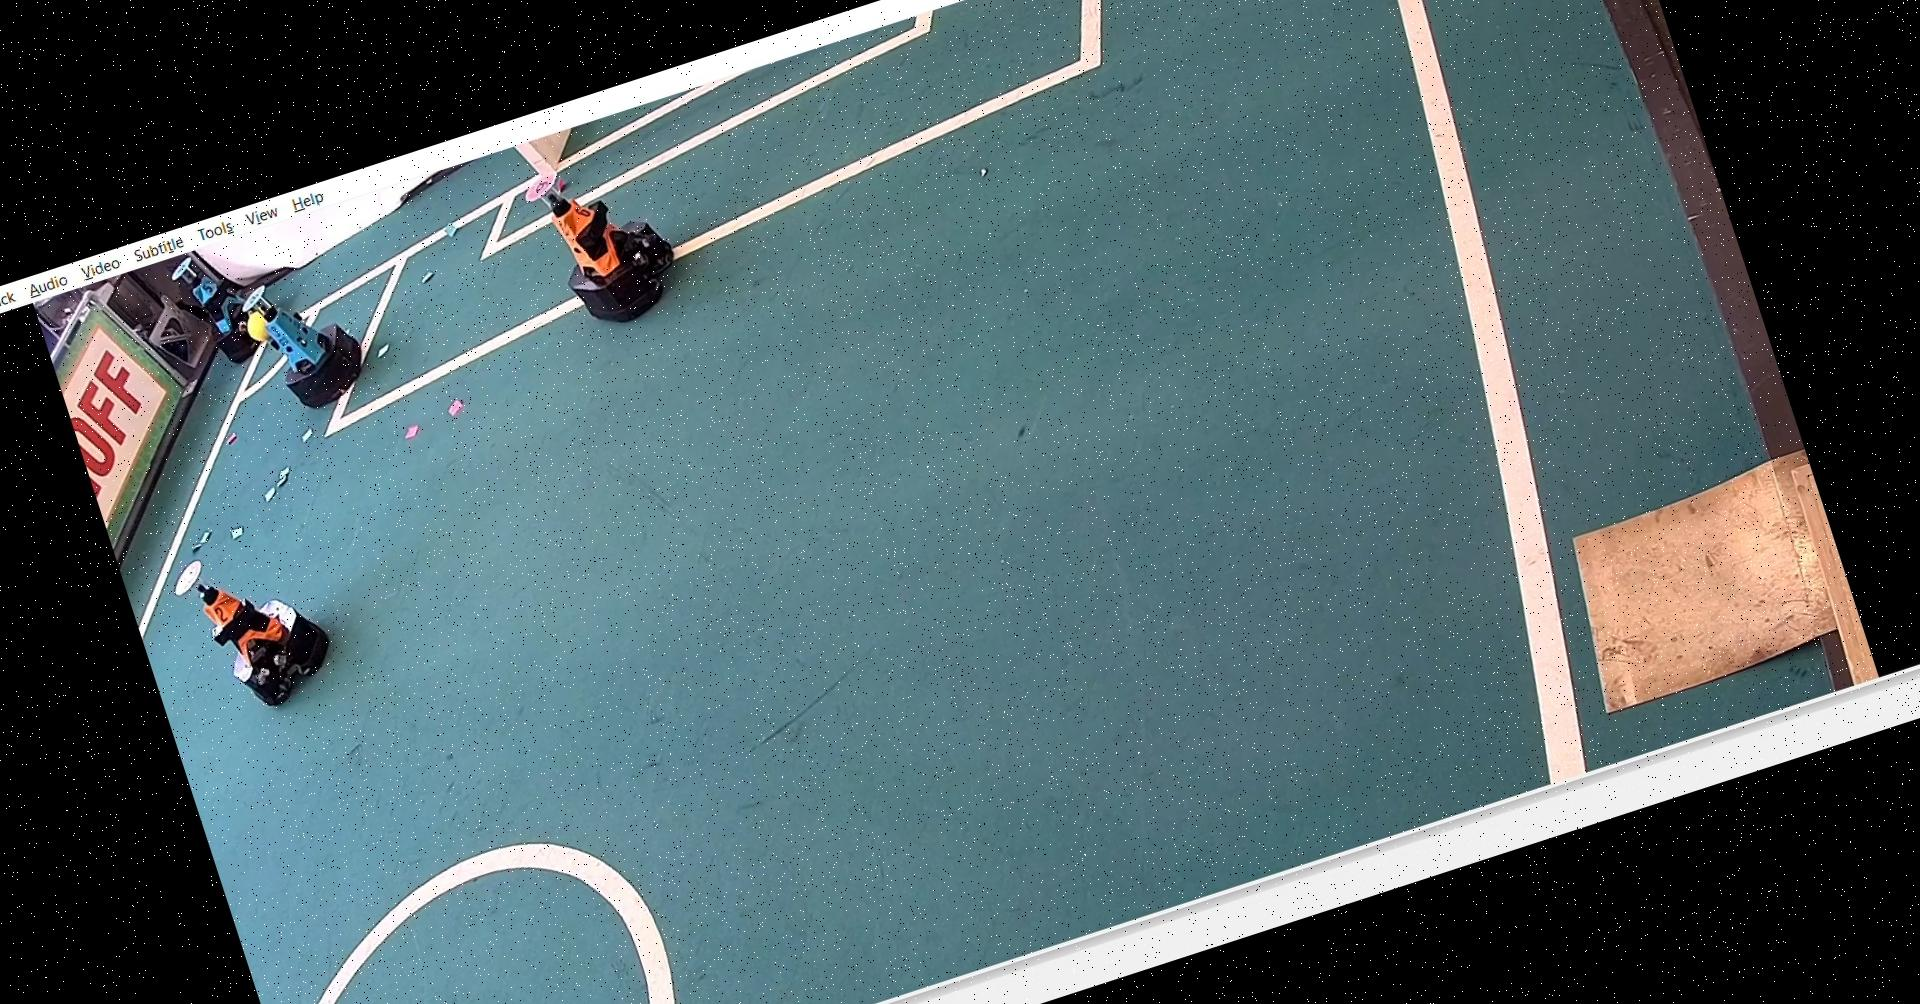Ball: (240, 303, 279, 349)
Team_Blue: (240, 261, 385, 426), (165, 237, 283, 377)
Team_Red: (514, 133, 700, 340), (165, 525, 348, 731)
